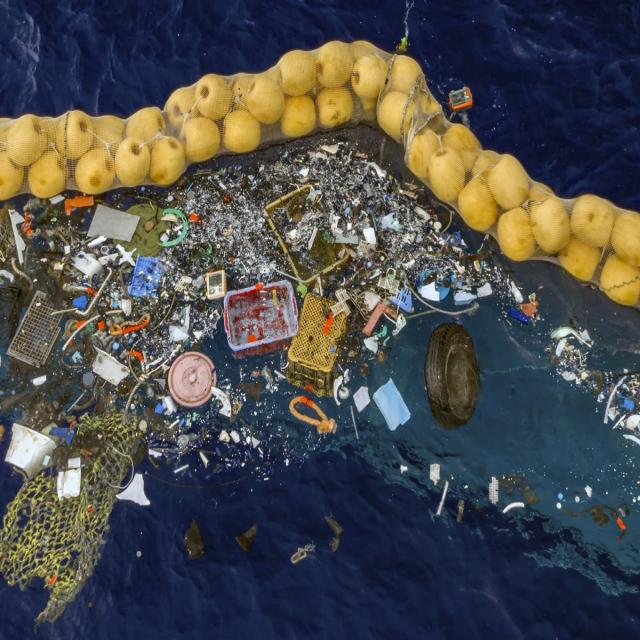plastic watse: (6, 188, 491, 479)
